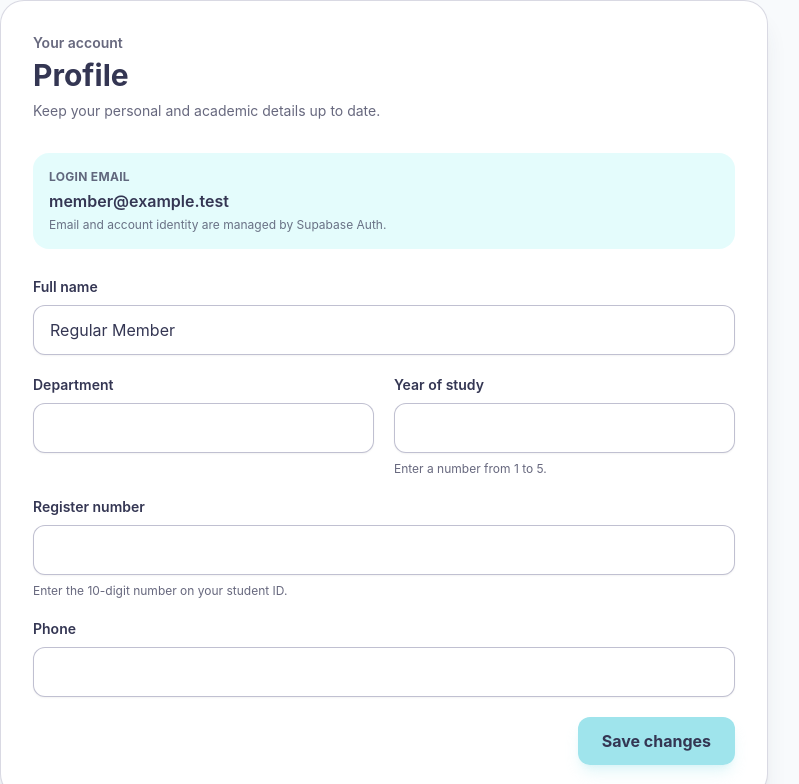
Test: profile form › updates editable profile fields and refreshes the profile
The image size is (799, 784).
Step 1. Replace the text in the field labelled "Full name" with "Updated Member" → (384, 330), box [33, 305, 735, 355]
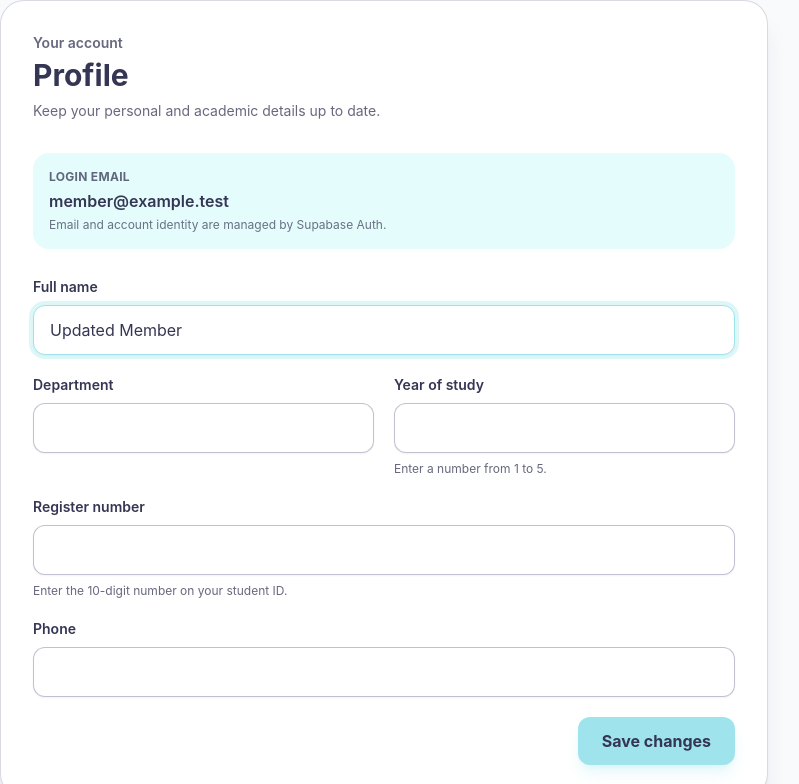
Step 2. Type "Computing" into the field labelled "Department" → (204, 428), box [33, 403, 374, 453]
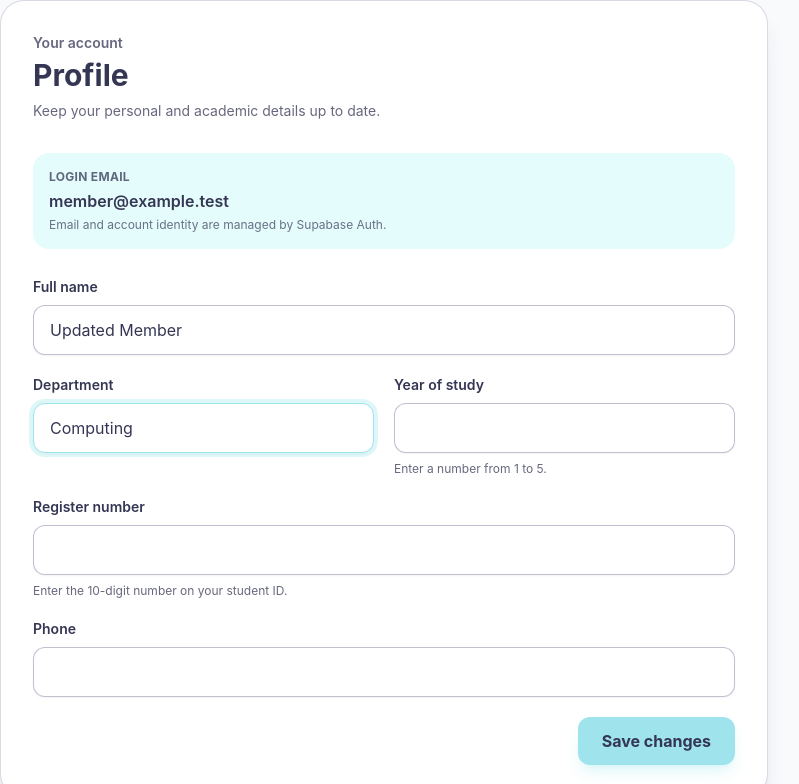
Step 3. Type "2" into the number field labelled "Year of study" → (564, 428), box [394, 403, 735, 453]
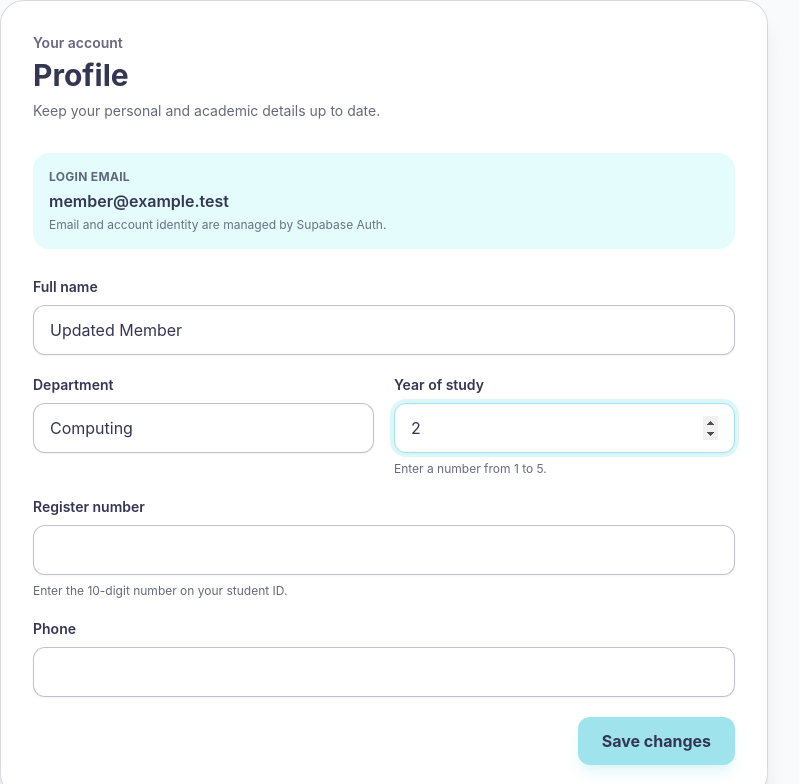
Step 4. Type "+1 555 0100" into the field labelled "Phone" → (384, 672), box [33, 647, 735, 697]
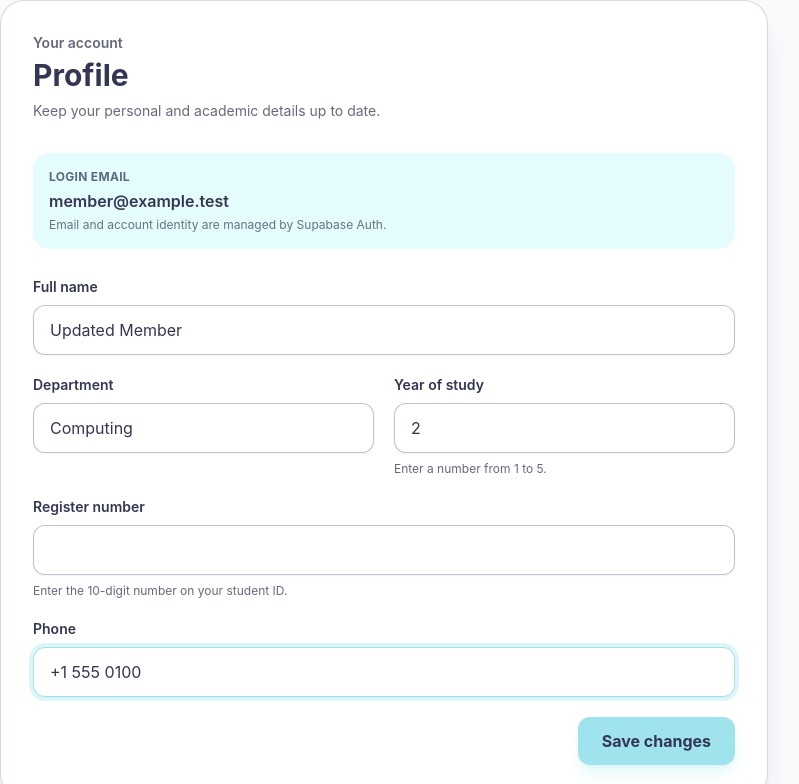
Step 5. Click the button "Save changes" → click(656, 741), box [578, 717, 735, 765]
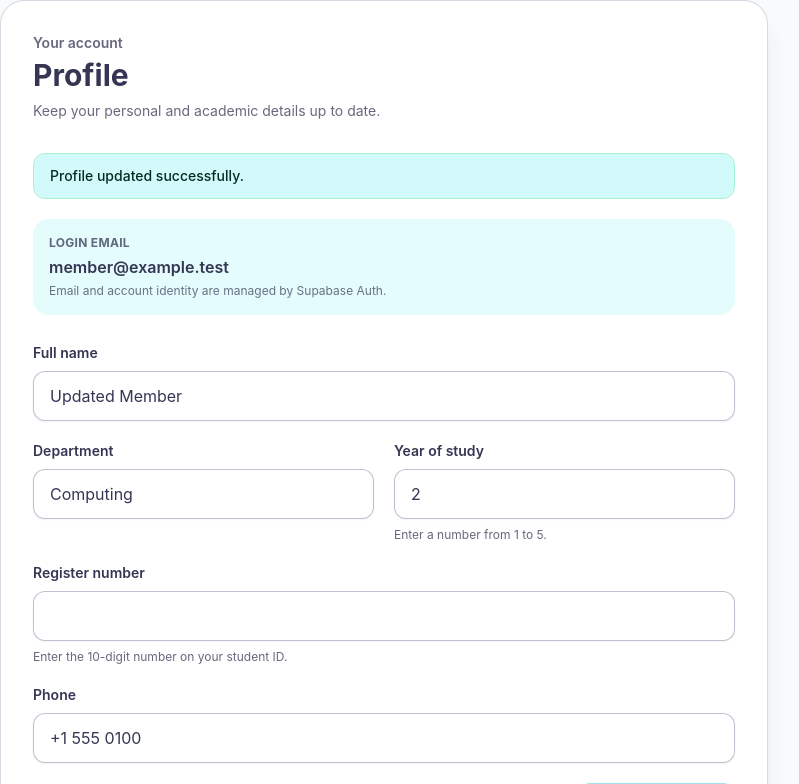
Check: the message reads "Profile updated successfully.", box [50, 167, 244, 184]
